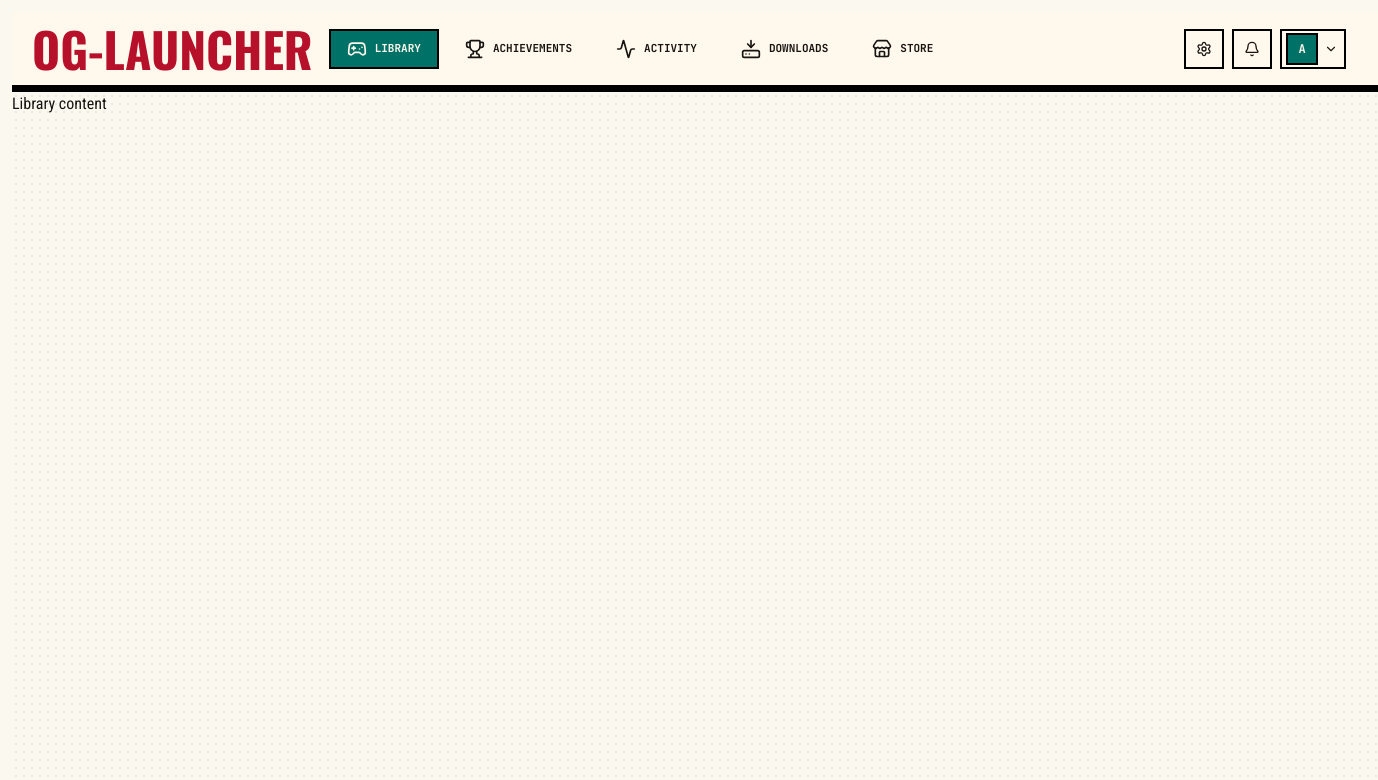
it: AppShell browser-local shell skins › supports roving profile-menu keyboard navigation and focus restore
The image size is (1378, 780).
Click the button named "Open profile menu".
click(1313, 48)  # box x1=1280 y1=28 x2=1346 y2=68
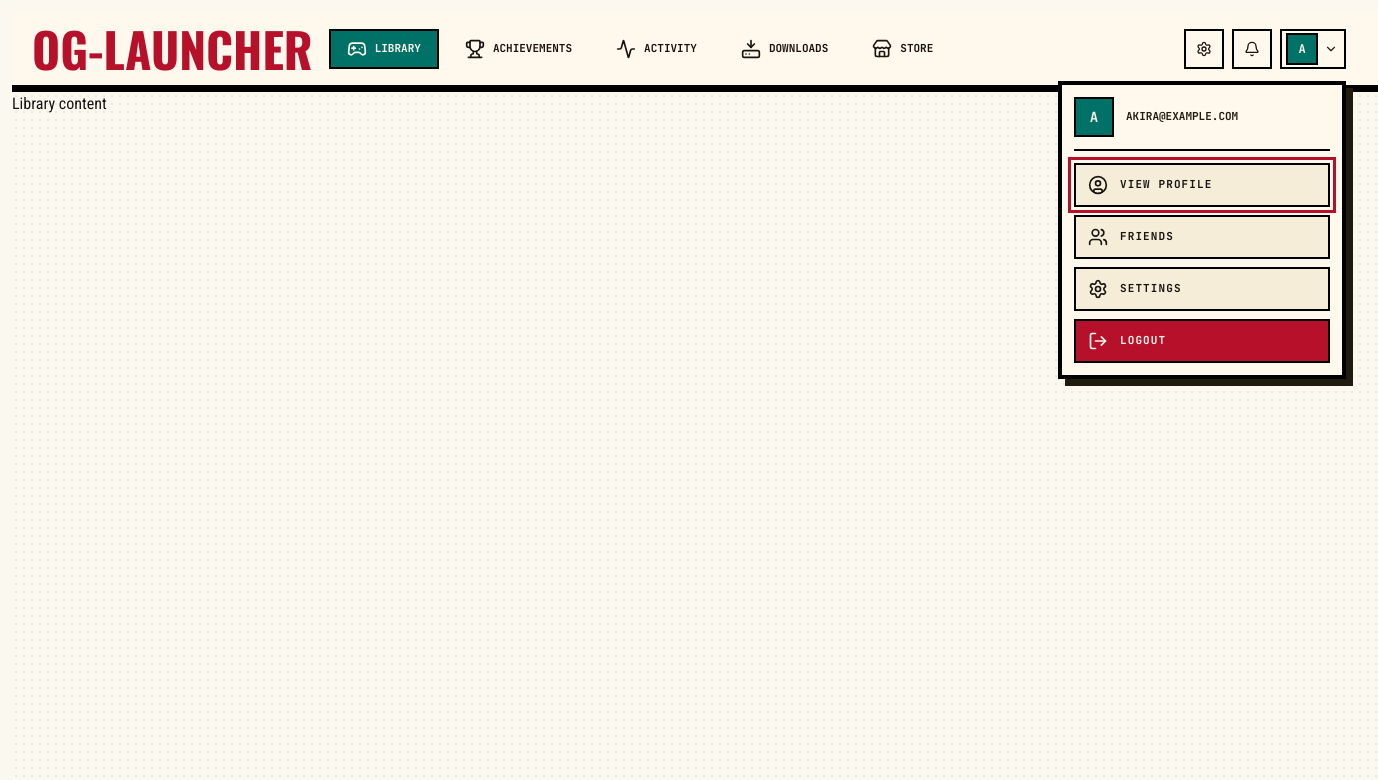
Press ArrowDown in the menu item "View profile", box x1=1074 y1=162 x2=1330 y2=206
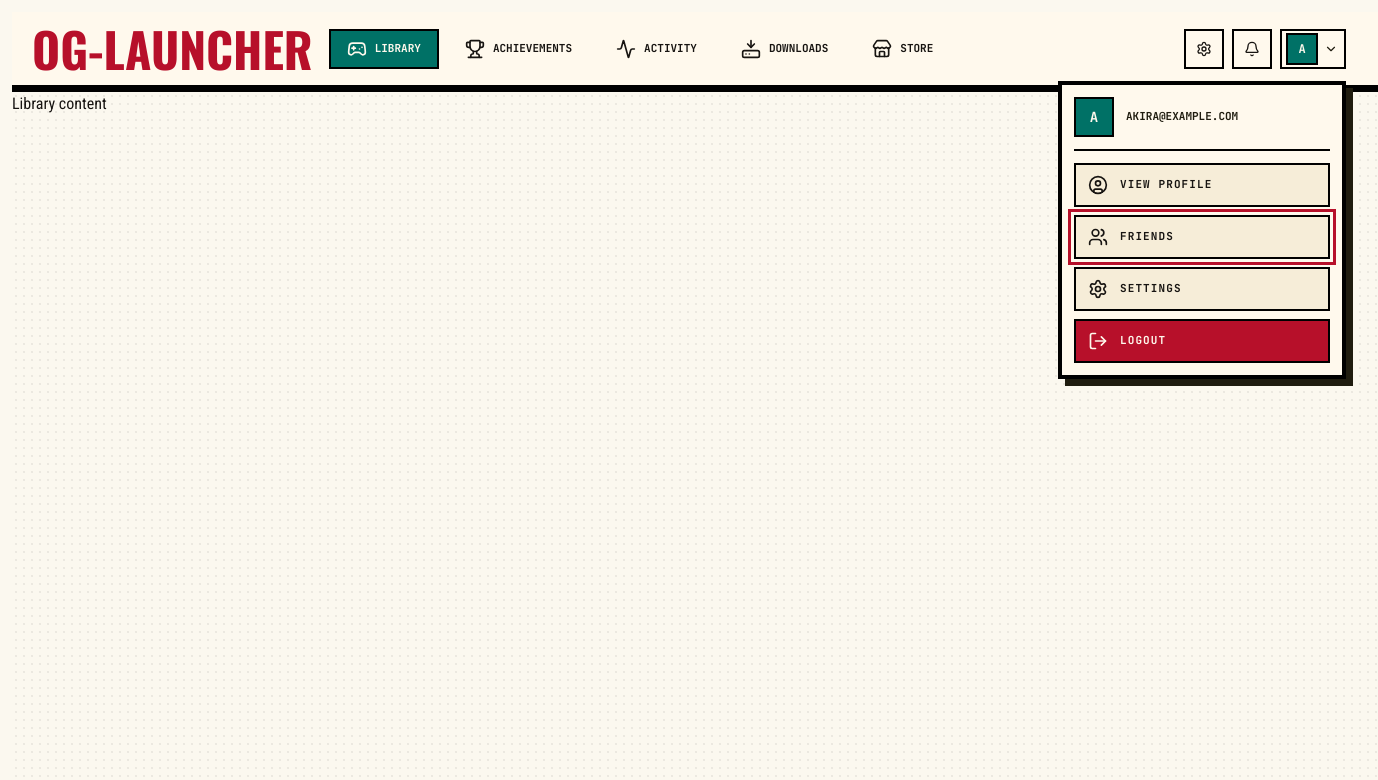
Press End in the menu item "Friends", box x1=1074 y1=214 x2=1330 y2=258
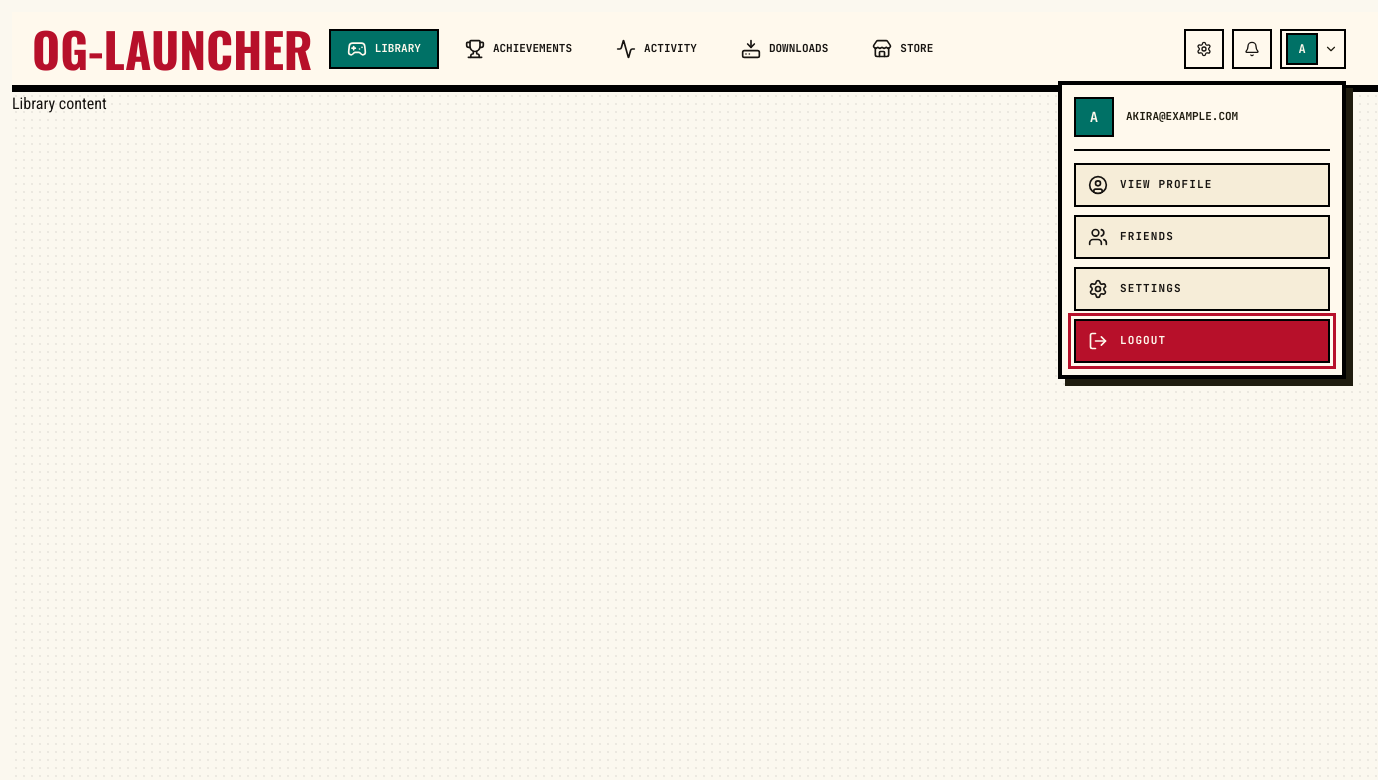
Press Home in the menu item "Logout", box x1=1074 y1=318 x2=1330 y2=362
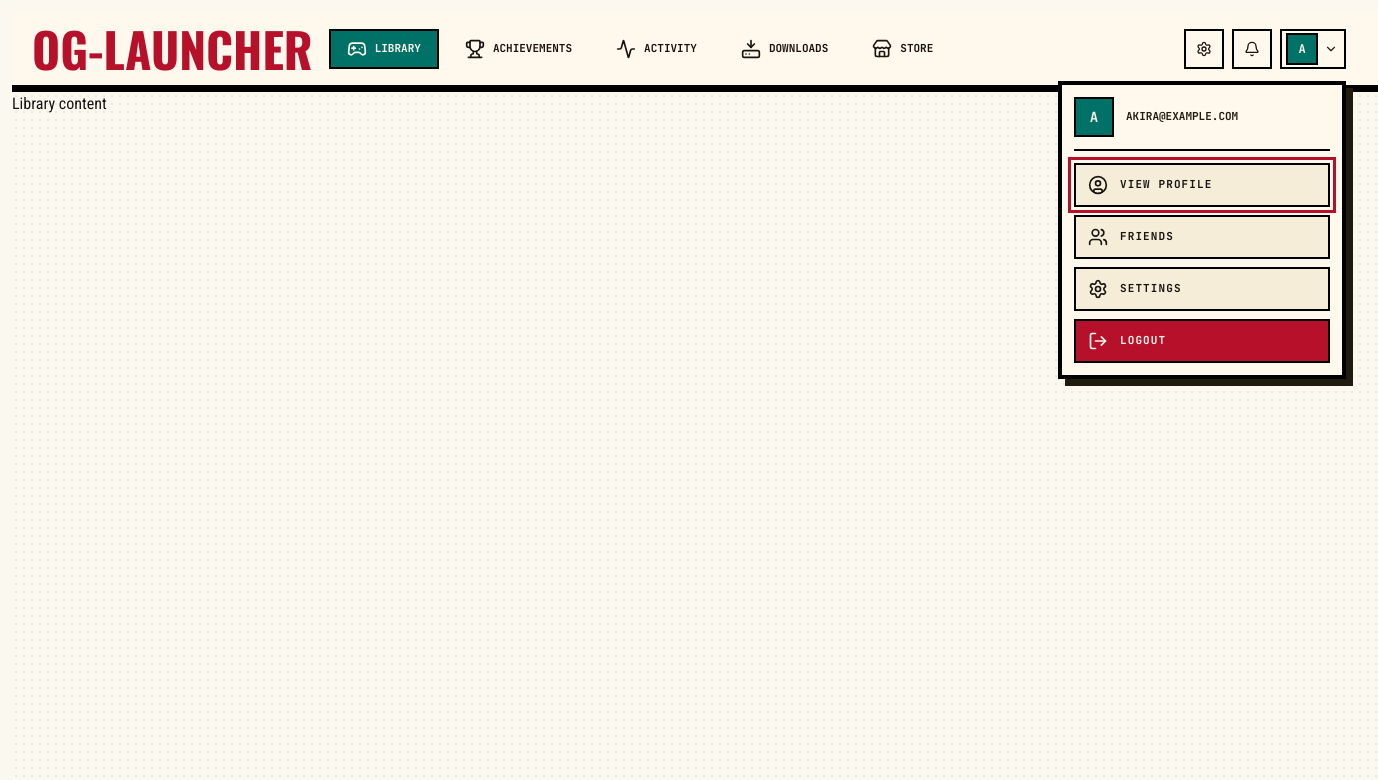
Press Escape
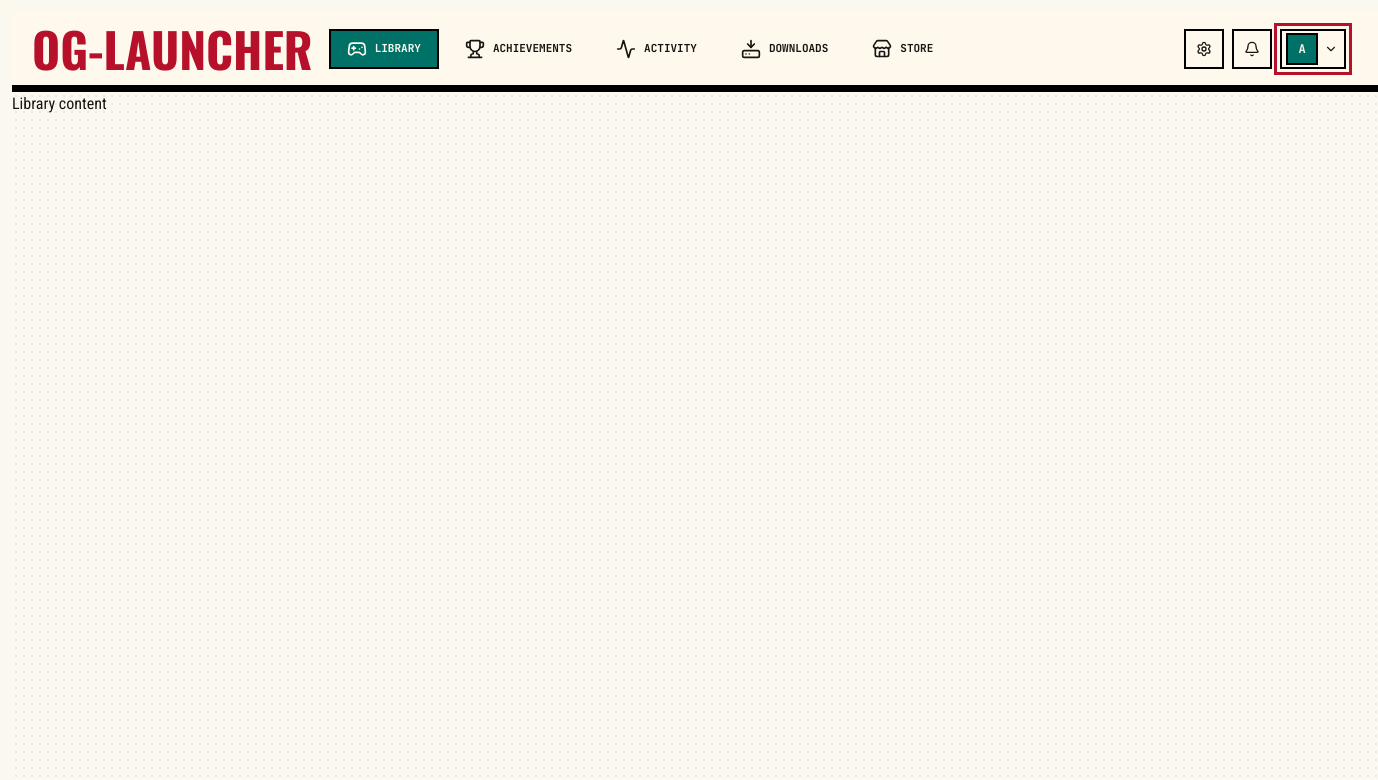
Expected: the menu "Account menu" is gone
